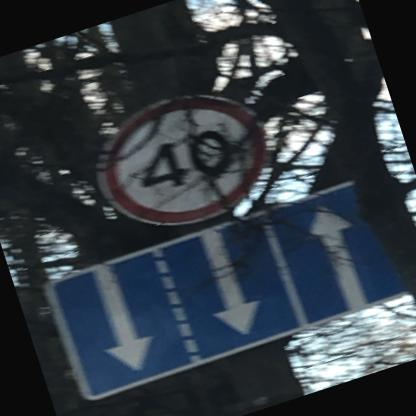speedlimit: (80, 76, 279, 247)
